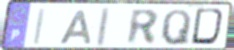A: (58, 9, 93, 45)
D: (189, 7, 229, 48)
I: (93, 6, 112, 48), (32, 7, 47, 47)
Q: (160, 8, 193, 47)
R: (126, 8, 160, 47)
